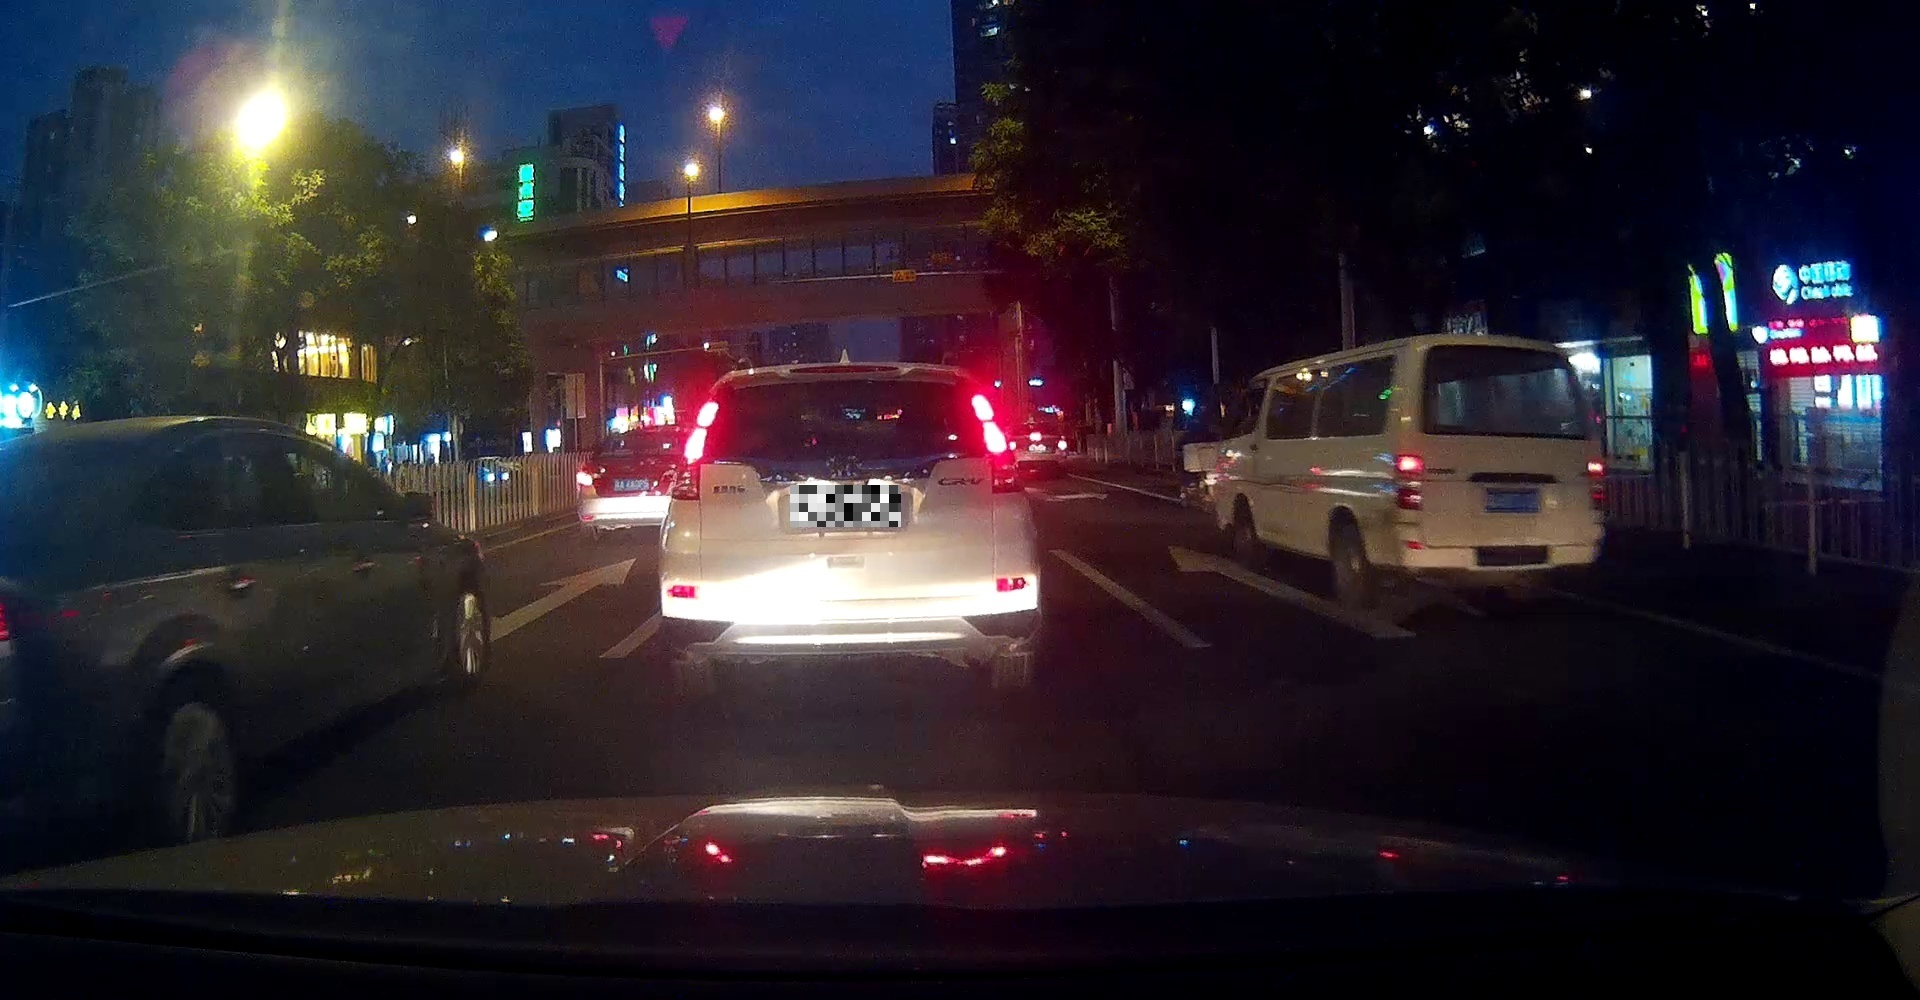L_light: (670, 398, 719, 501), (1396, 454, 1423, 510)
R_light: (970, 393, 1025, 494), (1586, 457, 1606, 511)
T_light: (789, 364, 899, 374), (1497, 345, 1528, 352)
night-no: (657, 360, 1043, 692), (1389, 332, 1609, 605)
plate_1: (790, 485, 902, 527)
